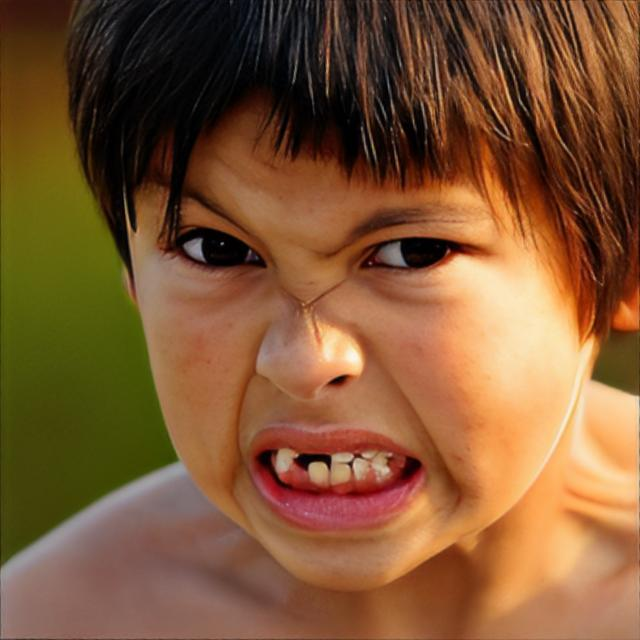anger: (147, 110, 575, 599)
